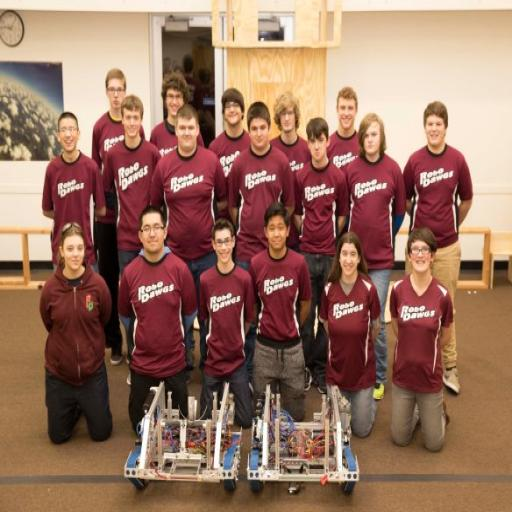robot: (119, 372, 248, 497), (249, 368, 360, 498)
